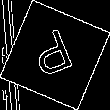P_S: (29, 25, 81, 85)
